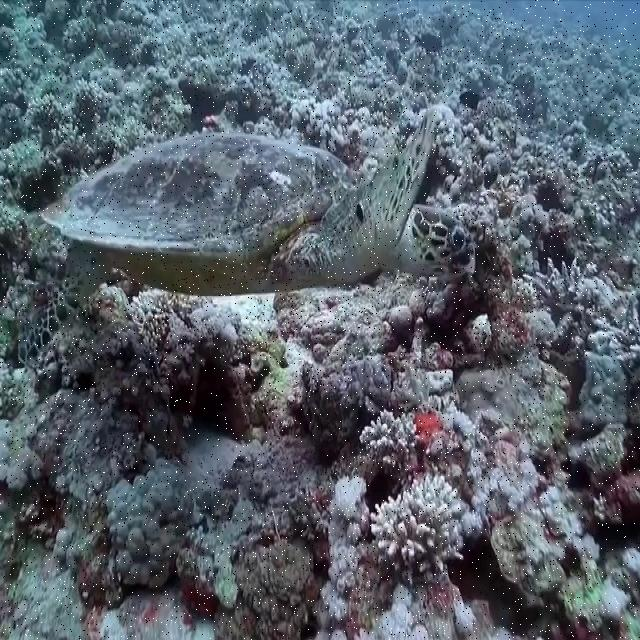fish: (17, 105, 474, 360)
